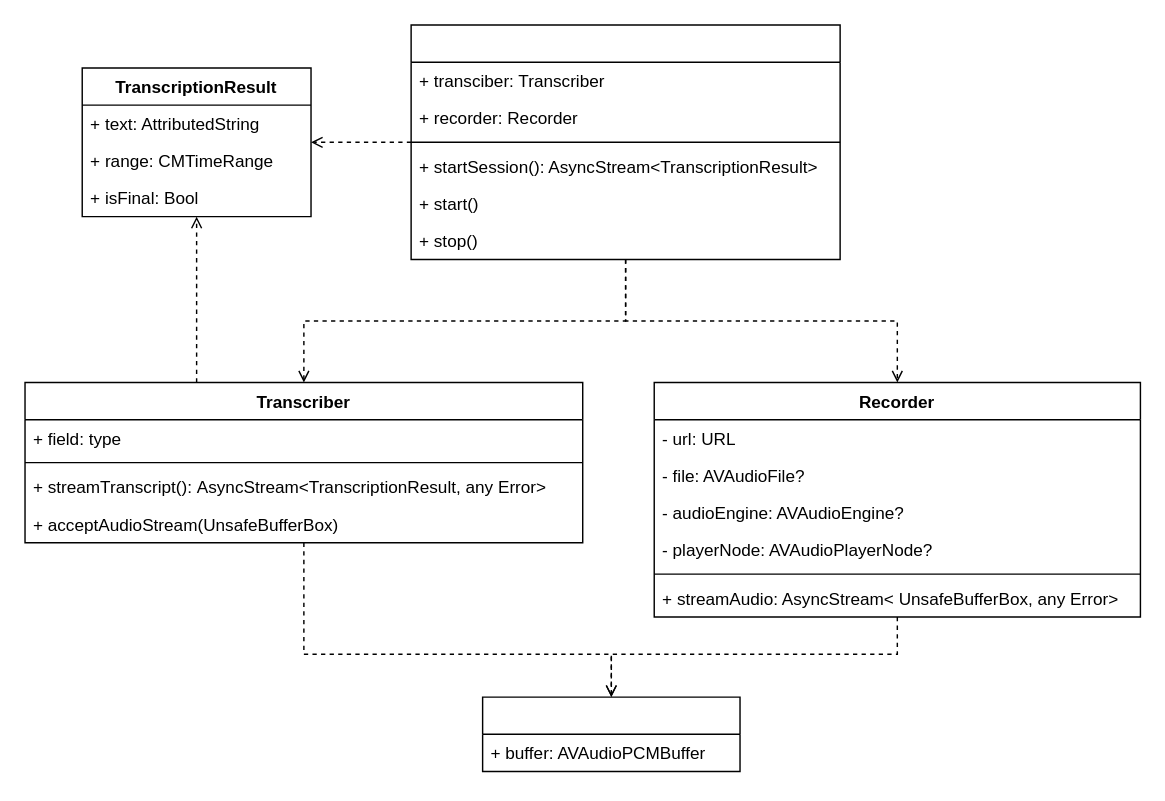
The diagram is 1165 pixels wide and 801 high, and some of its shapes have lost their labels. Each missing label, with the box of its shape:
Transcription Session: (410, 24, 840, 260)
UnsafeBufferBox: (481, 696, 740, 771)
